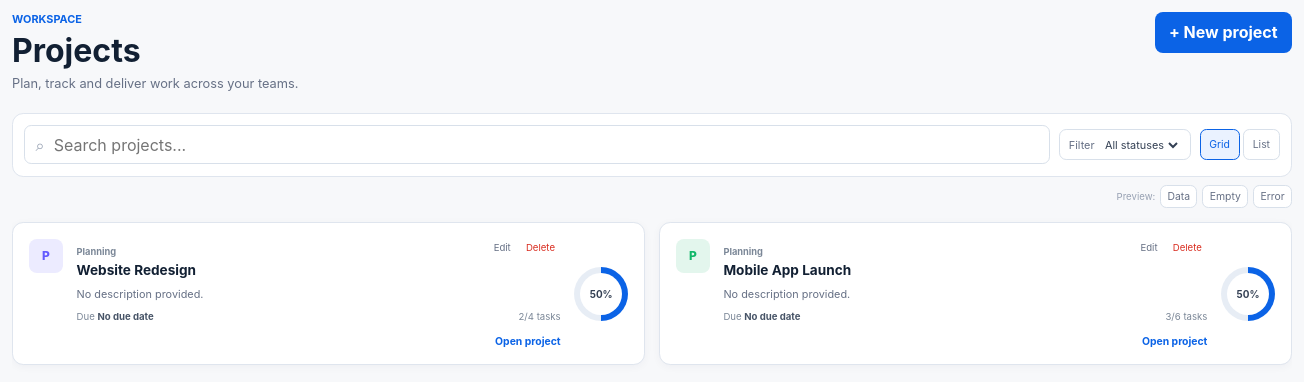
Test: project filtering › explains when no project matches the search
Expected: the heading "Website Redesign" is shown, [77,262,196,278]
In the search field named "Search projects": (545, 145) [52,134,1039,156], type "finance"
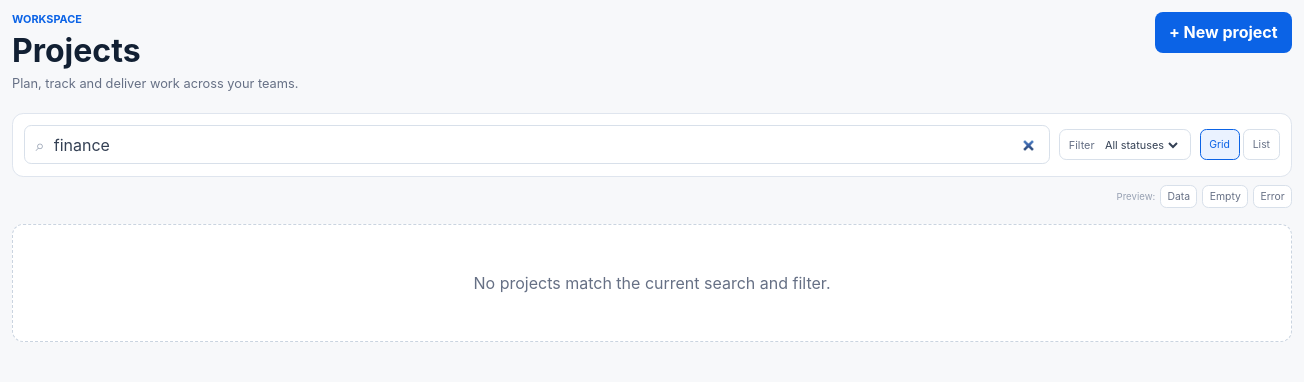
Expected: the text "No projects match the current search and filter." is shown, [12,224,1292,342]
